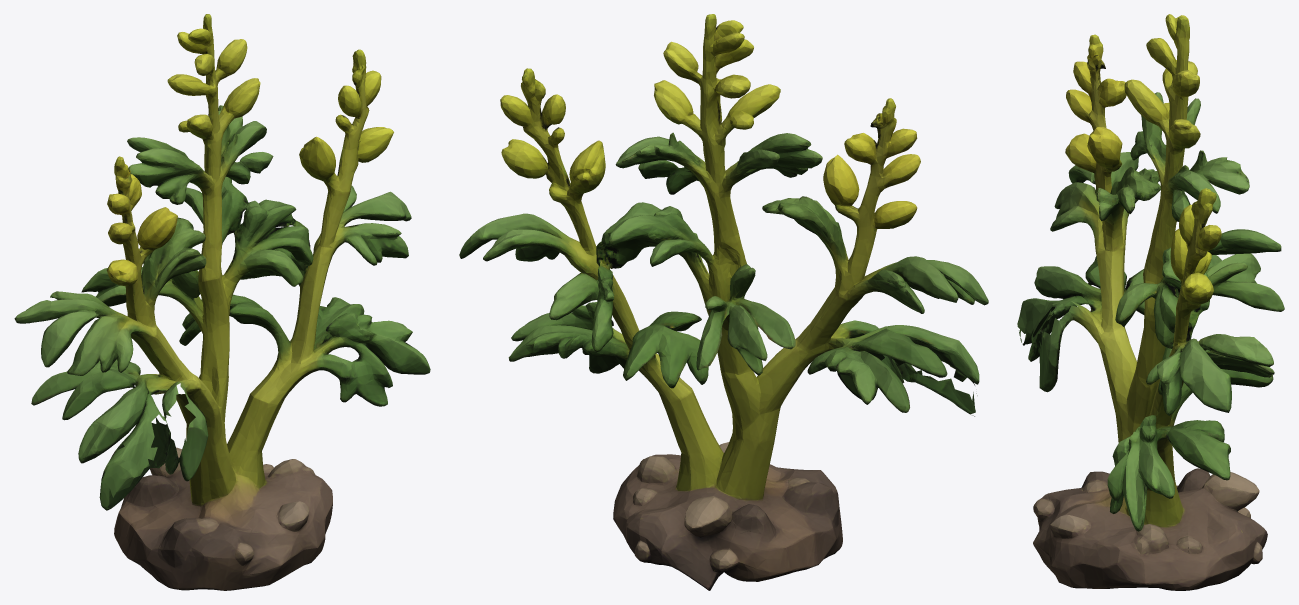
3 renders of one model, left to right at view 1: azimuth 30°, elevation 25°; view 2: azimuth 150°, elevation 25°; view 3: azimuth 270°, elevation 25°, orthographic. The views are drawn at different scales.
Parts seen in each view (by area): view 1: world; view 2: world; view 3: world.
Boxes of the visible parts, x1,y1,x2,y2 form: world: (14,14,430,590); world: (459,14,988,590); world: (1017,14,1284,590).
Bounding box in the file's own units: 0.3905 × 0.45 × 0.1983.
1 material, 1 textured.
